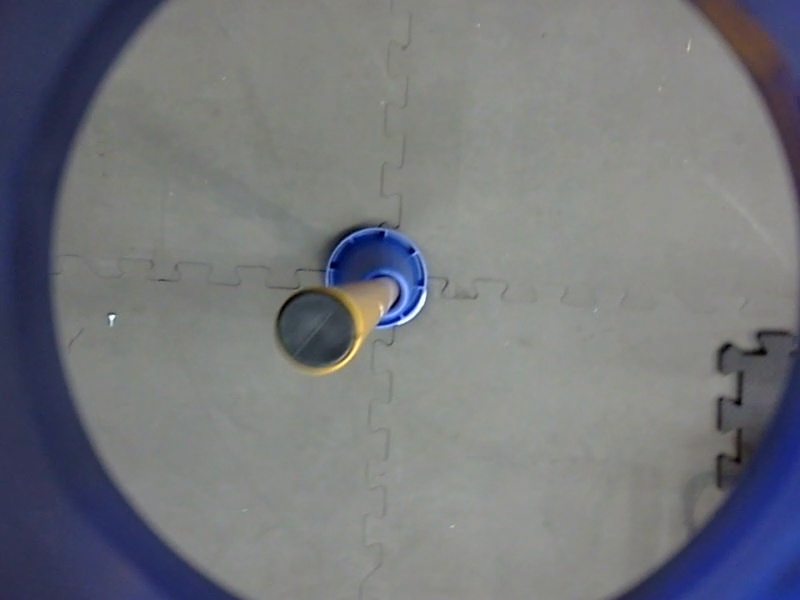tip: (268, 279, 369, 379)
